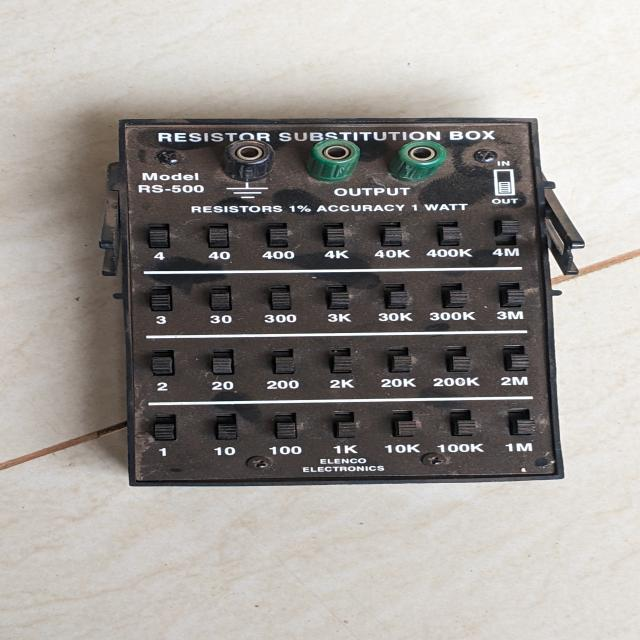Resistor Substitution Box: (84, 92, 605, 500)
